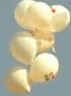Balloon: (30, 53, 59, 84), (10, 31, 36, 63), (3, 65, 31, 93), (26, 2, 52, 32)
